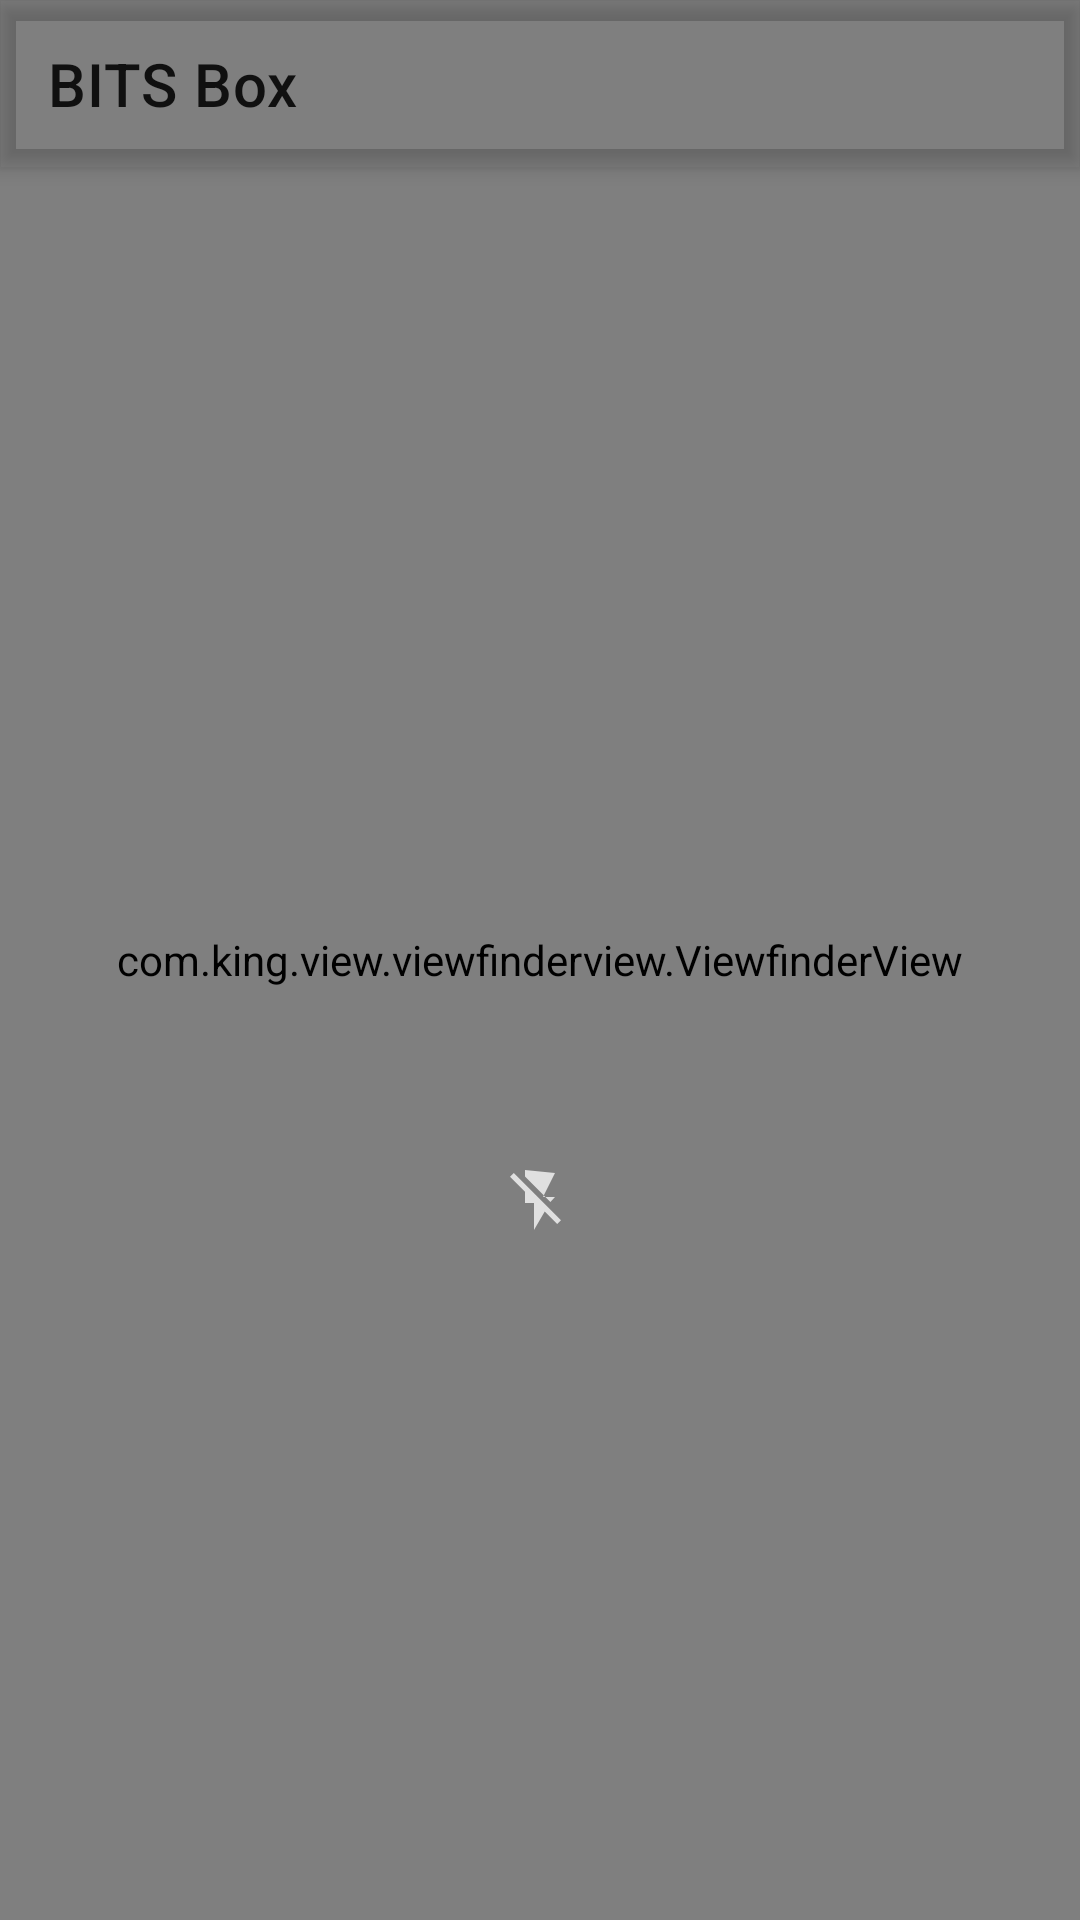

Icons on this 1080 × 1920 Android screen, each with the point to tap as (x,y):
zxl flashlight: (535,1200)
